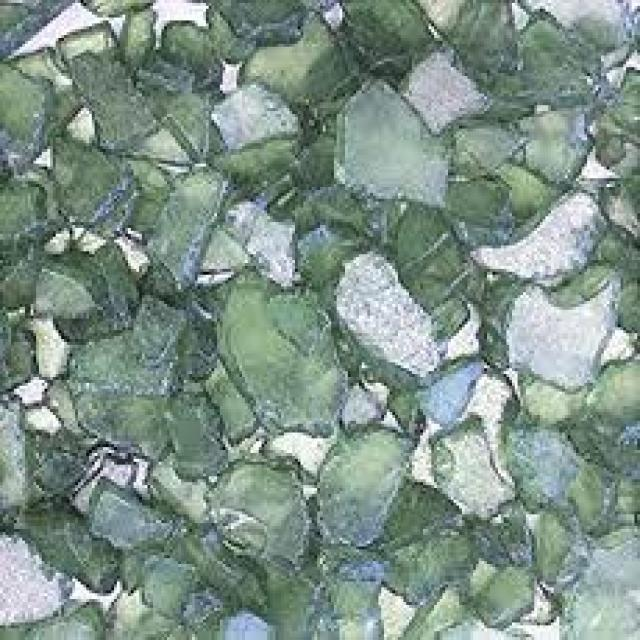glass: (0, 0, 637, 637), (217, 263, 345, 427), (331, 68, 462, 214), (473, 266, 618, 386), (328, 249, 437, 395), (70, 322, 178, 468), (225, 6, 359, 114), (359, 471, 467, 602), (476, 3, 601, 114), (195, 447, 306, 567), (312, 424, 417, 549), (468, 187, 601, 284), (75, 474, 184, 582), (571, 348, 638, 523), (6, 503, 128, 590), (142, 155, 228, 278), (548, 523, 637, 637), (390, 196, 473, 313), (50, 243, 148, 339), (198, 70, 301, 158), (0, 38, 75, 158), (67, 50, 159, 146), (426, 0, 518, 94), (42, 132, 134, 225), (426, 412, 506, 517), (170, 520, 262, 611), (209, 129, 312, 208), (320, 0, 440, 67), (512, 0, 637, 61), (393, 41, 482, 126), (512, 99, 587, 190), (387, 351, 476, 427), (582, 59, 637, 173), (462, 368, 517, 482), (465, 550, 557, 617), (0, 529, 64, 625), (501, 418, 568, 508), (161, 392, 231, 476), (161, 12, 231, 96), (89, 114, 189, 172), (231, 196, 300, 278), (0, 392, 45, 514), (287, 207, 367, 269), (590, 222, 637, 327), (262, 553, 323, 632), (34, 251, 109, 313), (198, 348, 251, 435), (134, 541, 192, 620), (120, 289, 192, 351), (134, 47, 192, 123), (395, 579, 470, 637), (0, 152, 50, 237), (448, 173, 506, 246), (198, 3, 256, 76), (181, 225, 256, 281), (259, 421, 326, 482), (262, 120, 340, 172), (0, 228, 47, 312), (320, 573, 381, 637), (6, 599, 106, 637), (409, 269, 465, 336), (565, 456, 615, 529), (517, 374, 590, 424), (531, 509, 579, 585), (0, 59, 42, 143), (470, 552, 523, 617), (492, 155, 551, 213), (139, 456, 198, 514), (22, 304, 64, 383), (0, 0, 75, 44), (61, 453, 131, 500), (39, 377, 86, 447), (473, 497, 529, 555), (31, 418, 81, 479), (582, 167, 637, 222), (298, 179, 376, 217), (56, 24, 114, 71), (181, 582, 220, 634), (103, 585, 142, 634), (114, 6, 153, 55), (217, 605, 270, 637), (134, 249, 175, 287), (78, 0, 153, 20), (22, 395, 56, 439), (131, 611, 184, 637), (14, 374, 44, 409)
